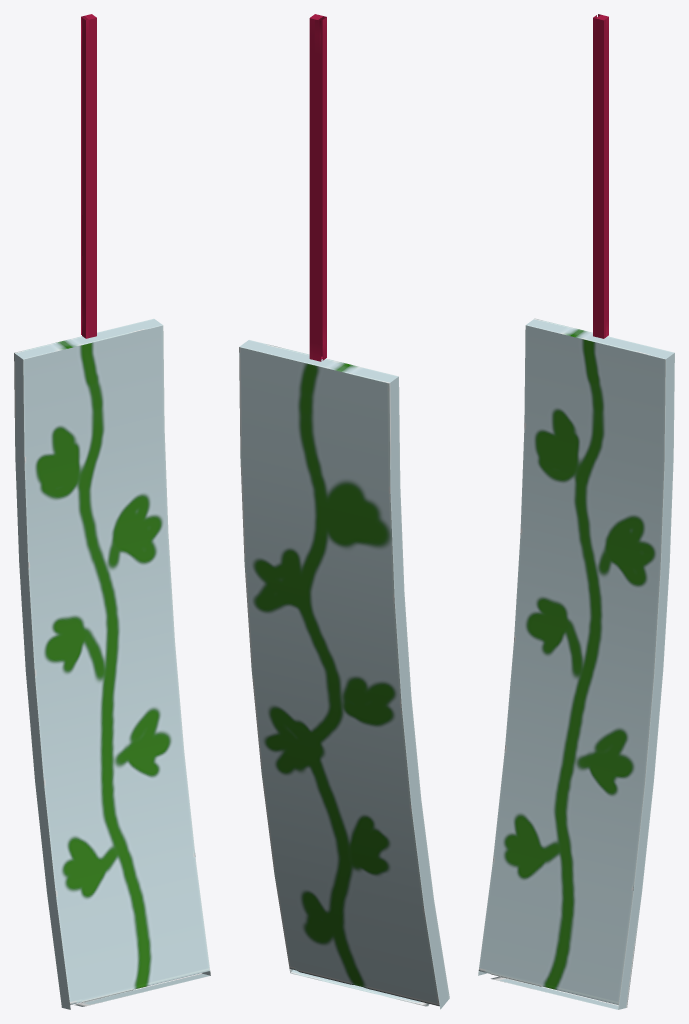
Rendered from seil.fbx.
3 renders of one model, left to right at view 1: azimuth 30°, elevation 25°; view 2: azimuth 150°, elevation 25°; view 3: azimuth 330°, elevation 25°, orthographic. The views are drawn at different scales.
Visible parts, largest first — view 1: seil; view 2: seil; view 3: seil.
Boxes of the visible parts, box(x1,y1,x2,y2) form: seil: box(14, 14, 210, 1009); seil: box(239, 14, 449, 1009); seil: box(478, 14, 674, 1009).
Bounding box in the file's own units: 7 × 44.94 × 4.91.
